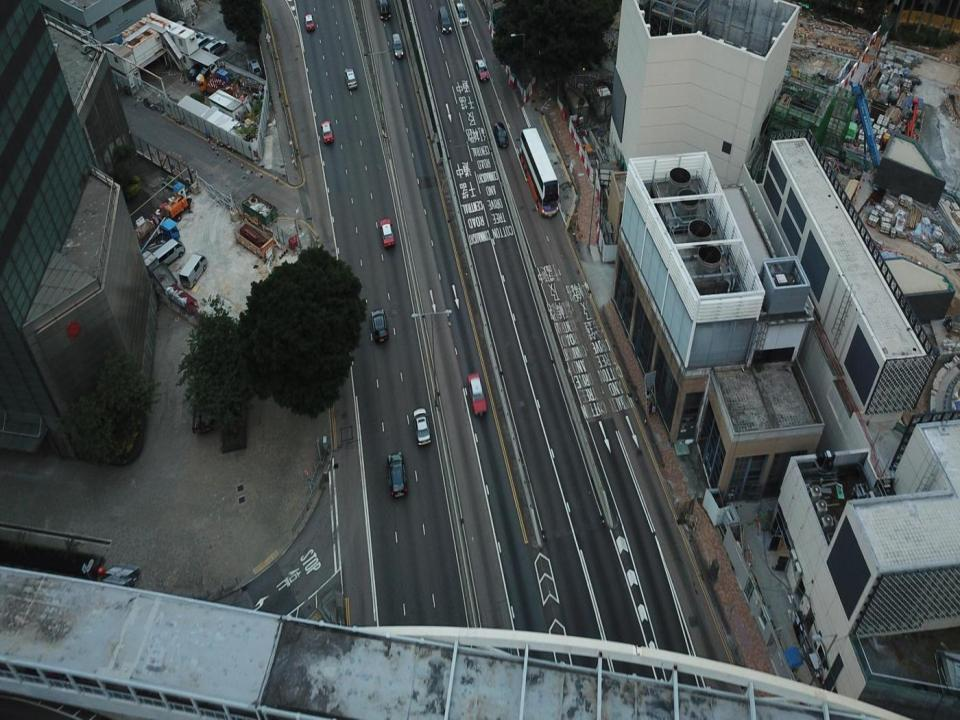bus: (517, 128, 560, 218)
car: (467, 372, 488, 417), (413, 407, 432, 445), (371, 309, 389, 344), (202, 38, 229, 57), (494, 120, 509, 150), (192, 34, 214, 52), (380, 220, 394, 248), (321, 120, 335, 145), (456, 2, 470, 27), (475, 58, 489, 82), (182, 32, 206, 46), (247, 57, 262, 78), (344, 68, 357, 88), (305, 13, 316, 34)
van: (149, 238, 186, 268), (178, 253, 207, 290), (386, 451, 407, 500), (438, 4, 452, 36), (391, 31, 405, 60), (376, 0, 393, 22)
